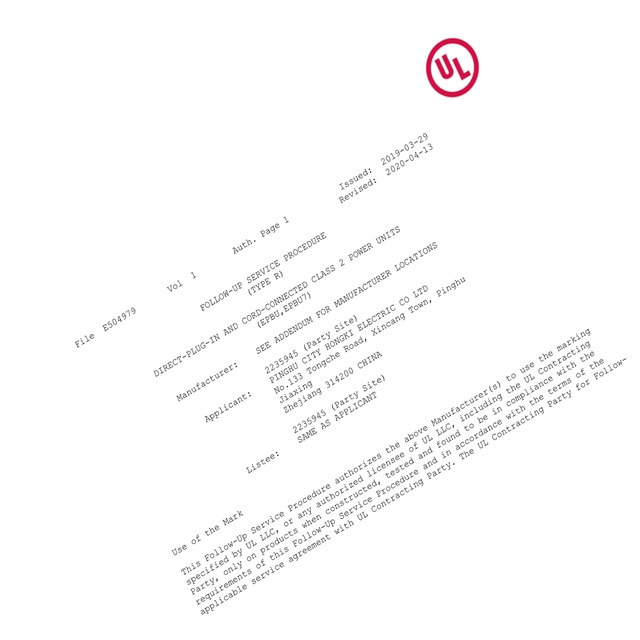ul: (425, 37, 479, 97)
